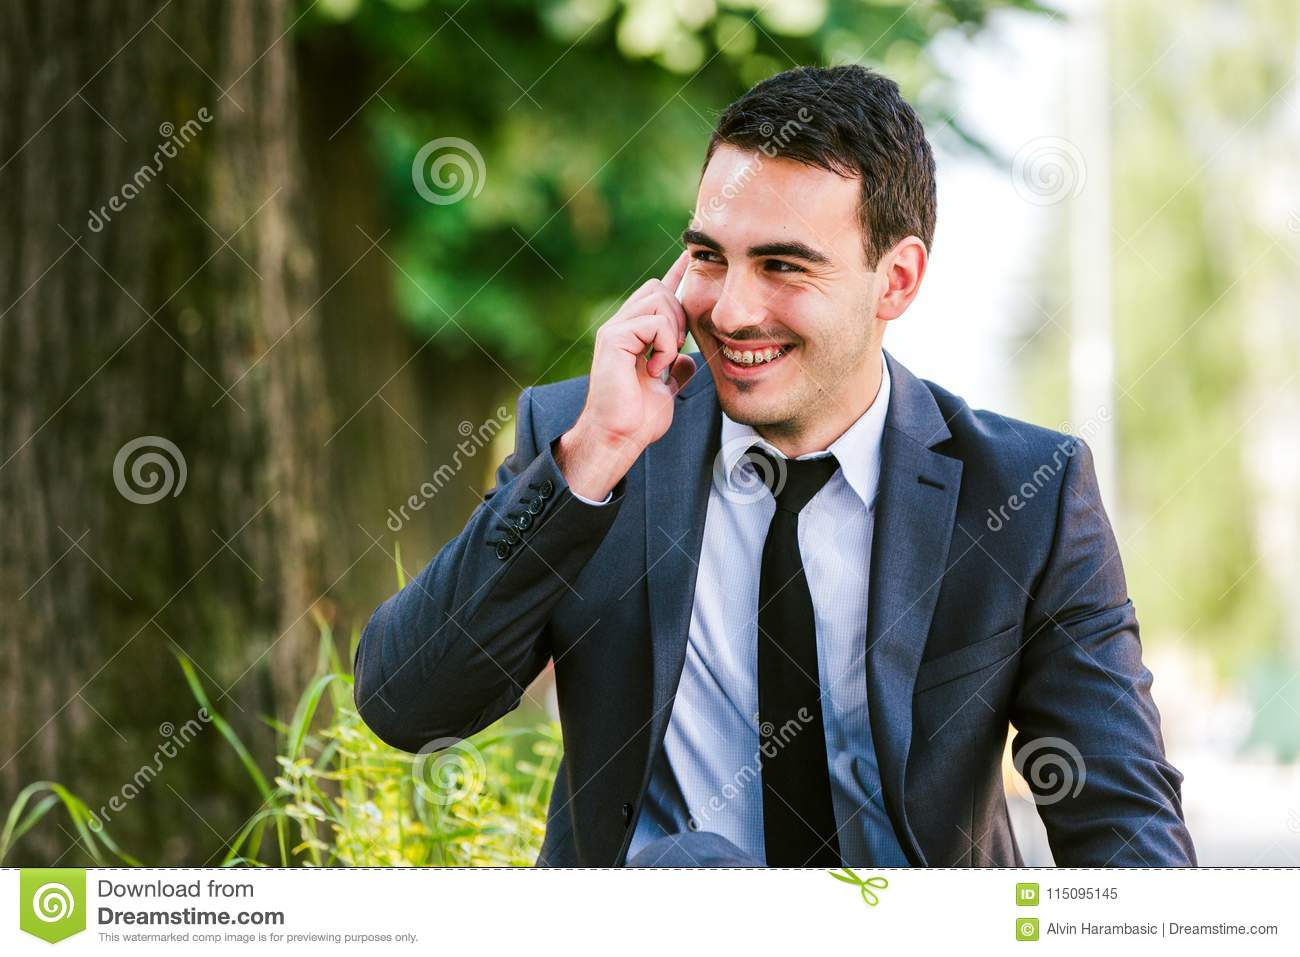phone: (641, 257, 696, 394)
talk: (570, 220, 853, 494)
